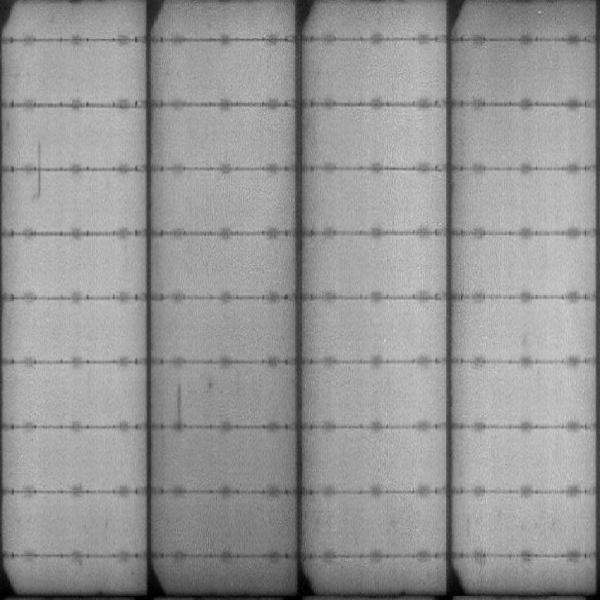scratch: (172, 383, 189, 423), (34, 141, 42, 197)
